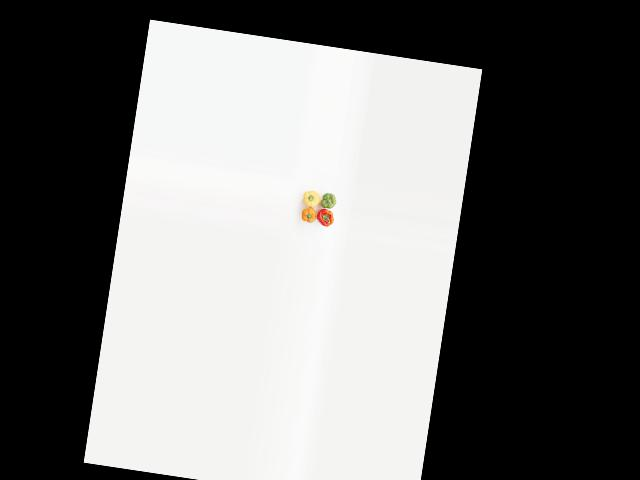bell_pepper: (318, 187, 339, 213)
